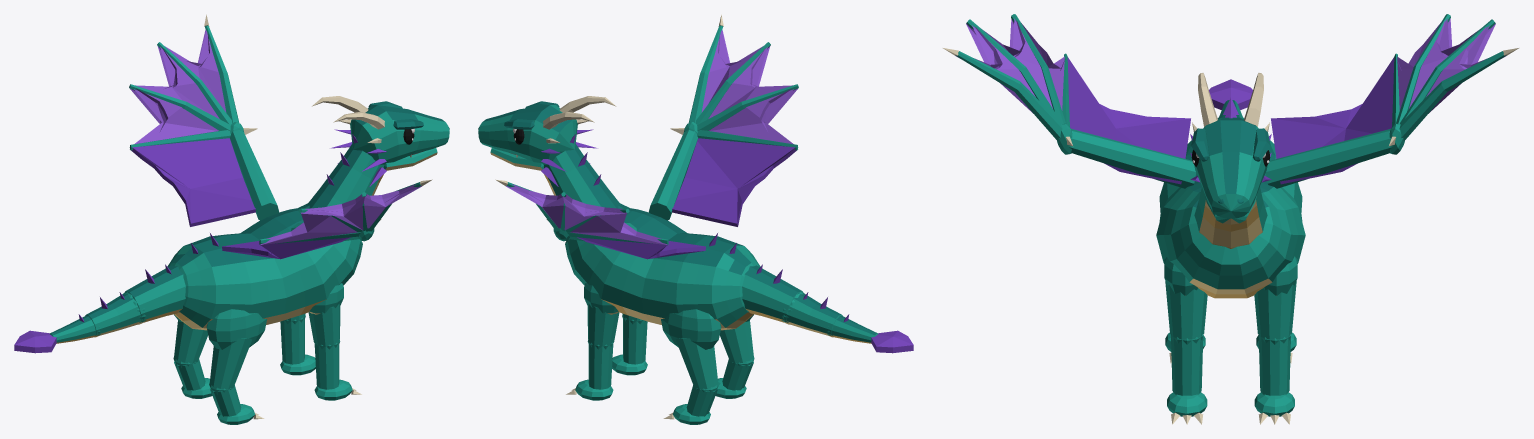
The model's file is dragon.glb.
3 renders of one model, left to right at view 1: azimuth 30°, elevation 25°; view 2: azimuth 150°, elevation 25°; view 3: azimuth 270°, elevation 25°, orthographic. The views are drawn at different scales.
Visible parts, largest first — view 1: wing_l, body, head, wing_r, leg_br, leg_fr, neck, tail, leg_bl, tail_3, leg_fl, tail_2; view 2: wing_r, body, head, wing_l, leg_bl, leg_fl, neck, tail, leg_br, tail_3, leg_fr, tail_2; view 3: wing_l, wing_r, body, head, leg_fl, leg_fr, neck, tail_3.
Part boxes in pixels (x1,y1,x2,y2): wing_l: (129, 14, 278, 226); body: (167, 203, 362, 330); head: (311, 96, 449, 186); wing_r: (222, 179, 432, 259); leg_br: (206, 309, 266, 424); leg_fr: (308, 283, 361, 400); neck: (306, 134, 383, 208); tail: (124, 264, 185, 322); leg_bl: (173, 314, 212, 398); tail_3: (14, 314, 100, 353); leg_fl: (280, 313, 315, 375); tail_2: (85, 292, 146, 336); wing_r: (649, 14, 798, 226); body: (565, 203, 760, 330); head: (478, 96, 616, 186); wing_l: (495, 179, 705, 259); leg_bl: (661, 309, 721, 424); leg_fl: (566, 283, 619, 400); neck: (544, 134, 621, 208); tail: (742, 264, 803, 322); leg_br: (715, 314, 754, 398); tail_3: (827, 314, 913, 353); leg_fr: (612, 313, 647, 375); tail_2: (781, 292, 842, 336); wing_l: (1266, 14, 1518, 188); wing_r: (943, 14, 1195, 188); body: (1156, 114, 1305, 298); head: (1190, 73, 1271, 224); leg_fl: (1254, 256, 1297, 424); leg_fr: (1164, 257, 1207, 424); neck: (1194, 187, 1267, 248); tail_3: (1209, 79, 1252, 116).
Size of the model in its own units: 3.93 by 2.49 by 3.56.
